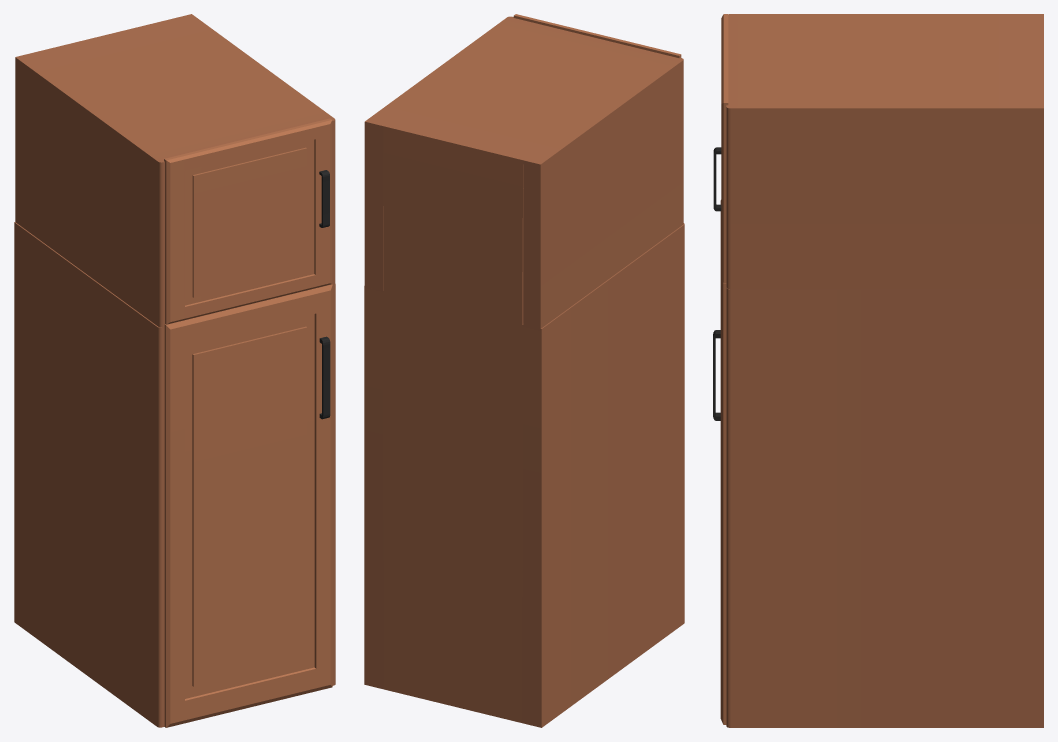
The model's file is KitchenLongCupBoard.fbx.
The picture shows the model from 3 angles, left to right: view 1: azimuth 30°, elevation 25°; view 2: azimuth 150°, elevation 25°; view 3: azimuth 270°, elevation 25°; orthographic projection. The views are drawn at different scales.
Parts seen in each view (by area): view 1: kitchenlongcupboard; view 2: kitchenlongcupboard; view 3: kitchenlongcupboard.
Part boxes in pixels (bbox=[...]): kitchenlongcupboard: bbox=[14, 14, 335, 727]; kitchenlongcupboard: bbox=[364, 14, 684, 727]; kitchenlongcupboard: bbox=[713, 14, 1043, 727].
Size of the model in its own units: 56.37 by 172 by 82.77.
Materials: 1 (1 with a texture image).
